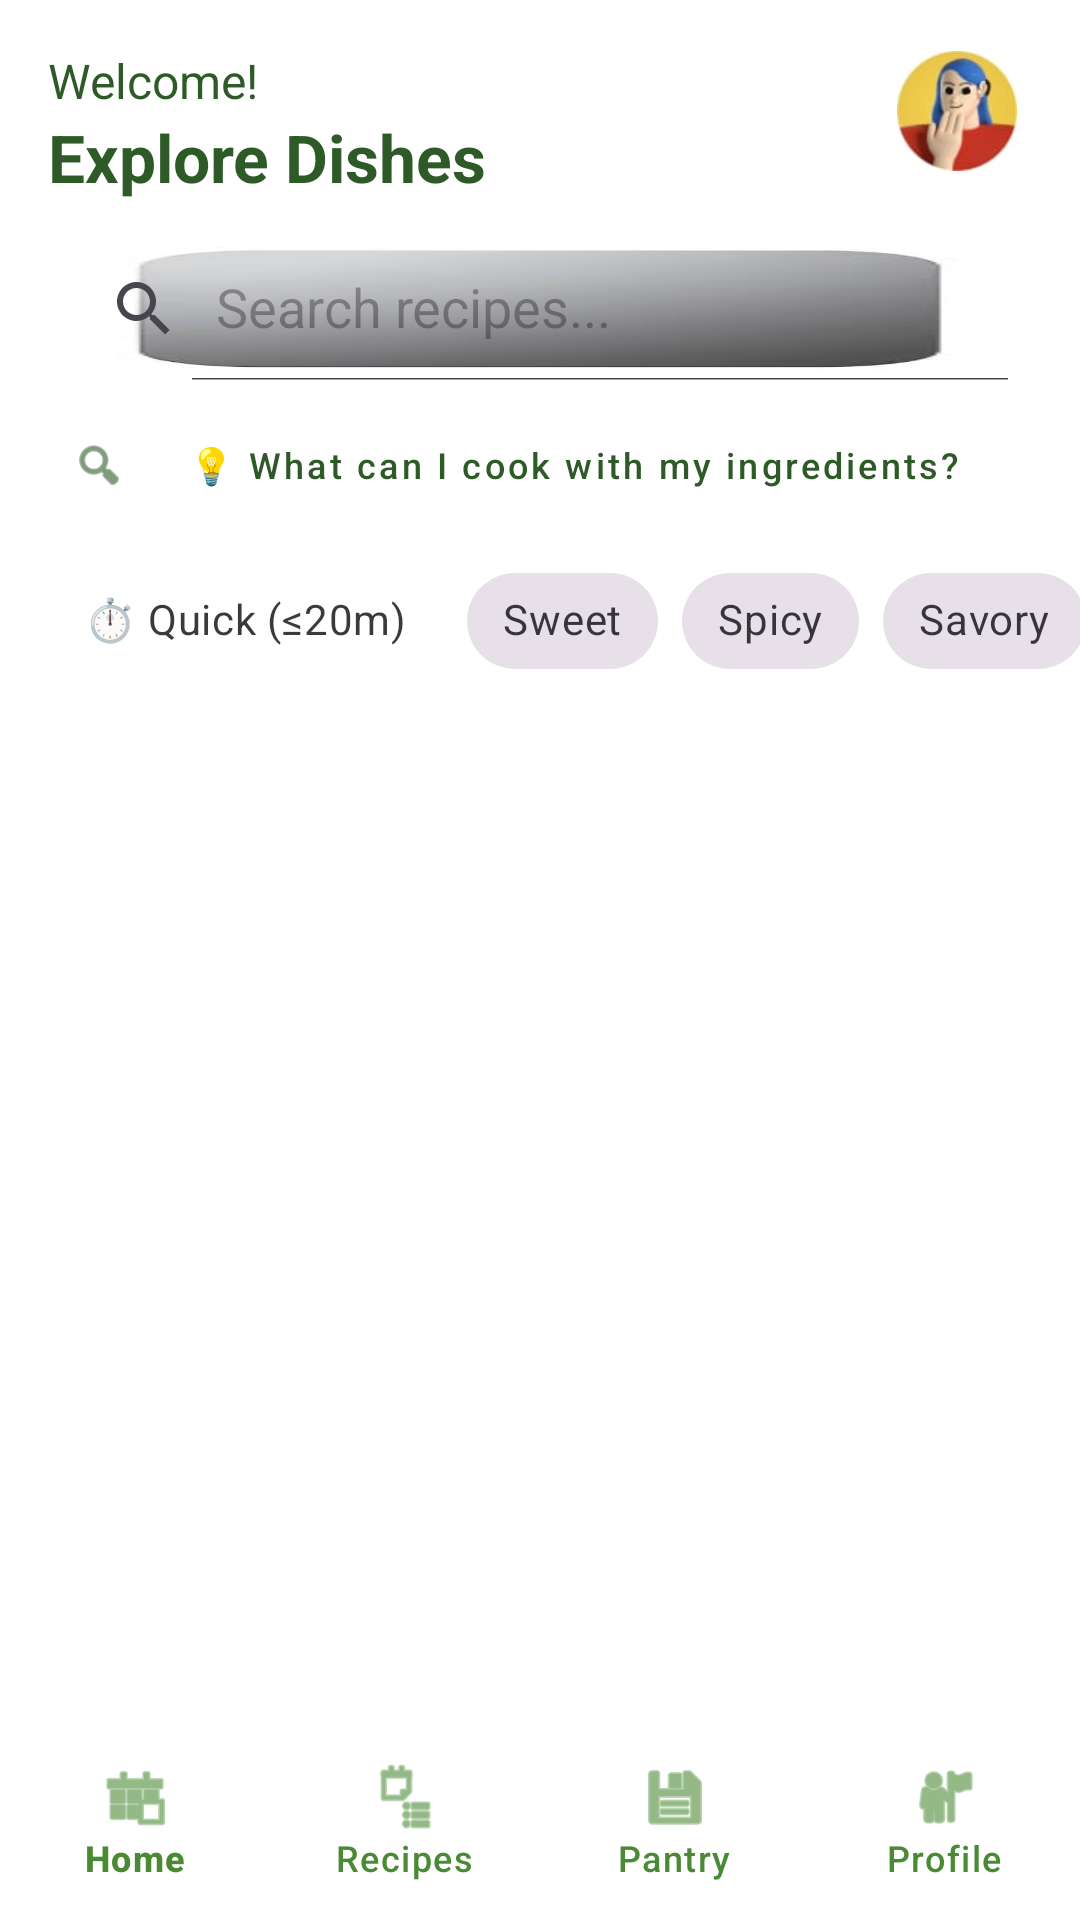

Point at icon controls on the screen. Image size 1080px x 1920px, points as (x=x, y=y).
profile: (x=957, y=111)
